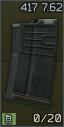HK417%5G28 7.62x51 20-round magazine: (0, 0, 64, 127)
